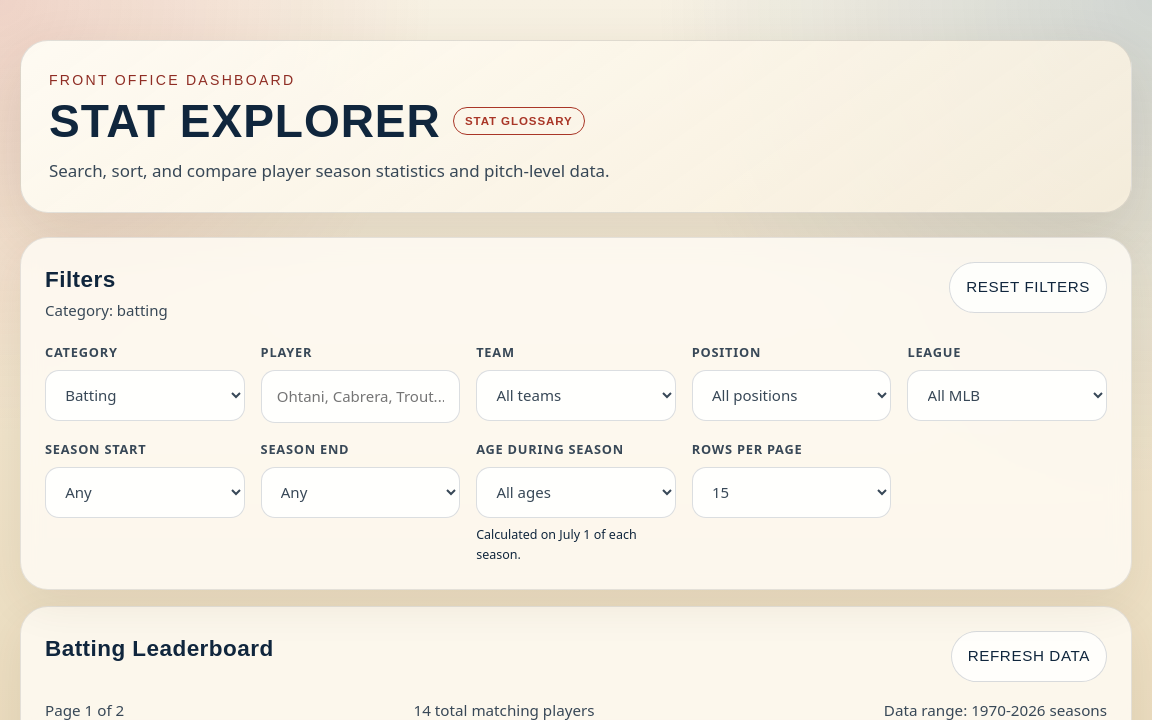
Test: StatExplorer › updates and resets the filter summary
Type "Ohtani" into the field with placeholder "Ohtani, Cabrera, Trout...".
click(360, 396); type("Ohtani")  # box [261,370,460,423]
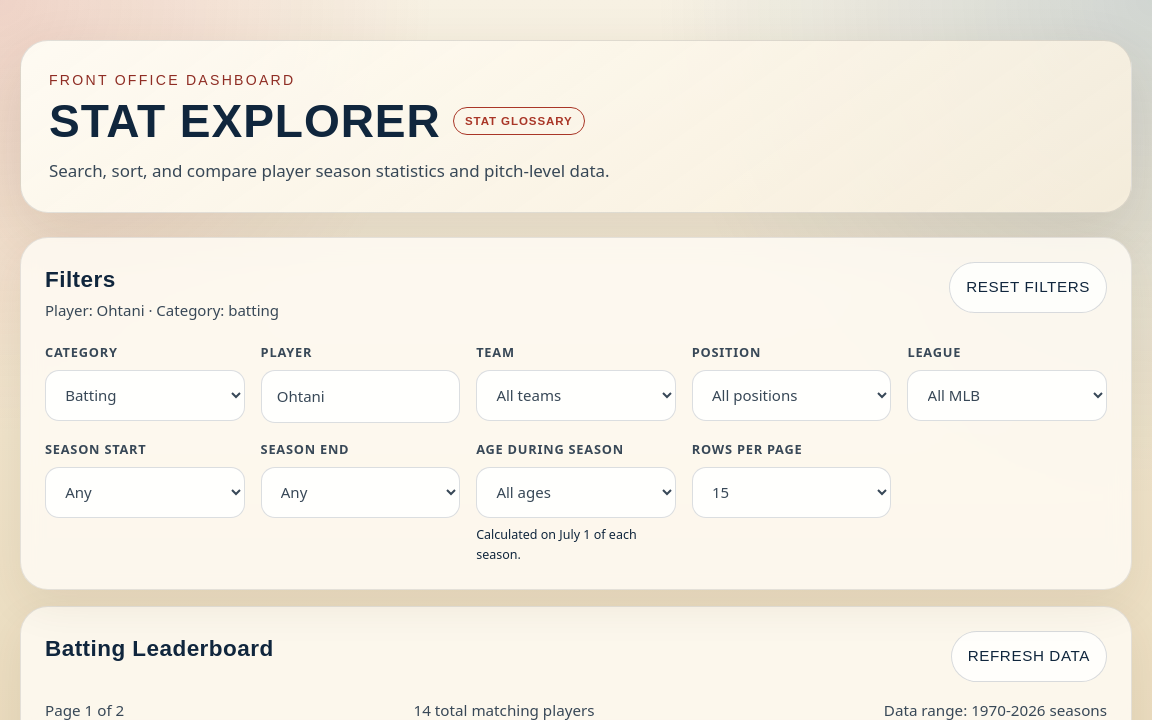
Select "LAD · Dodgers" in the dropdown with test id "team-filter" at coordinates (576, 395), box [476,370,676,421]
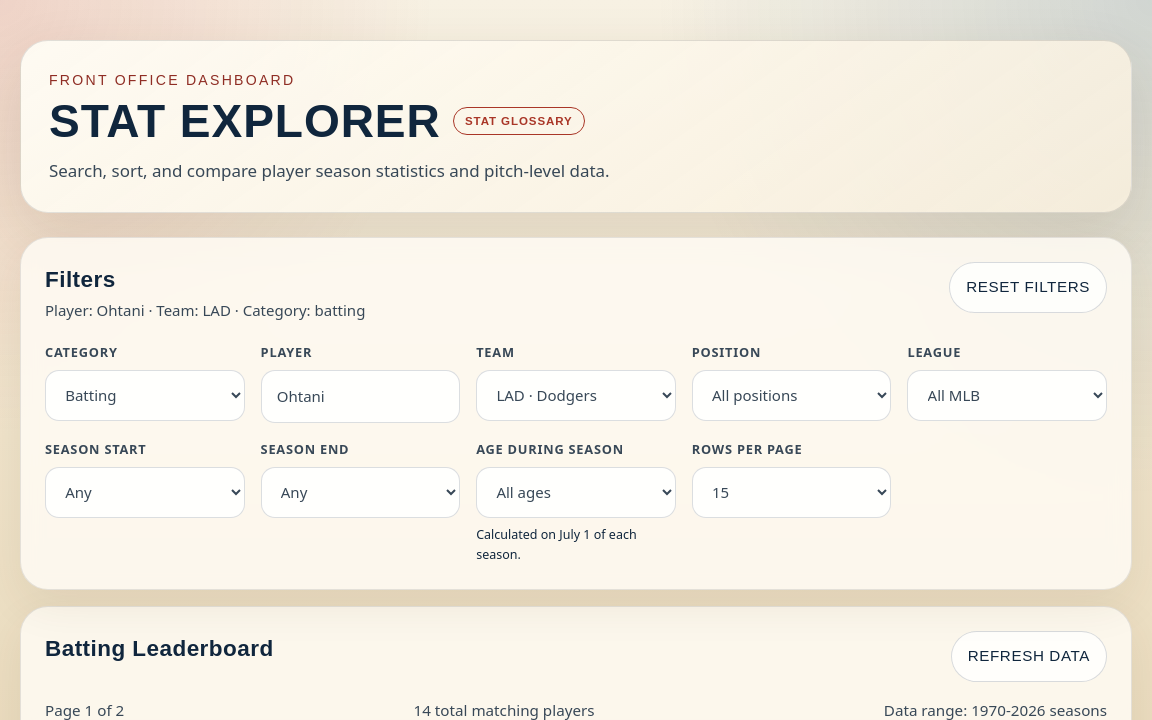
Select "2025" in the dropdown with test id "season-start-filter" at coordinates (145, 492), box [45,466,245,518]
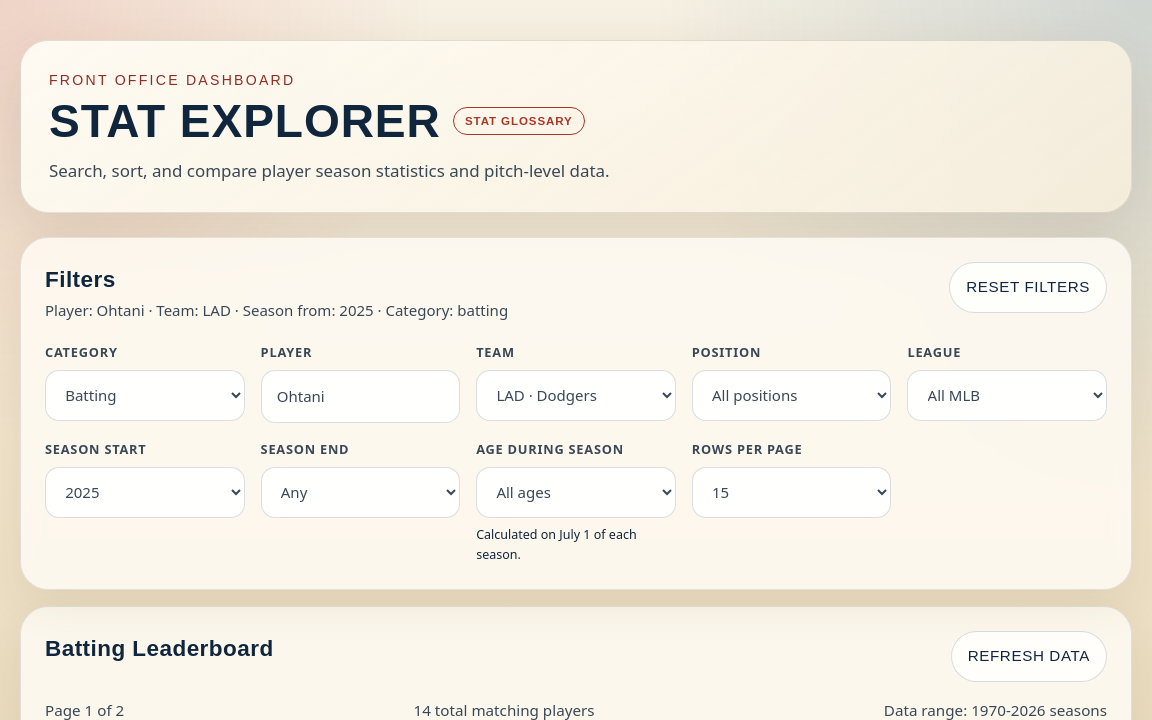
Select "2026" in the dropdown with test id "season-end-filter" at coordinates (360, 492), box [261,466,460,518]
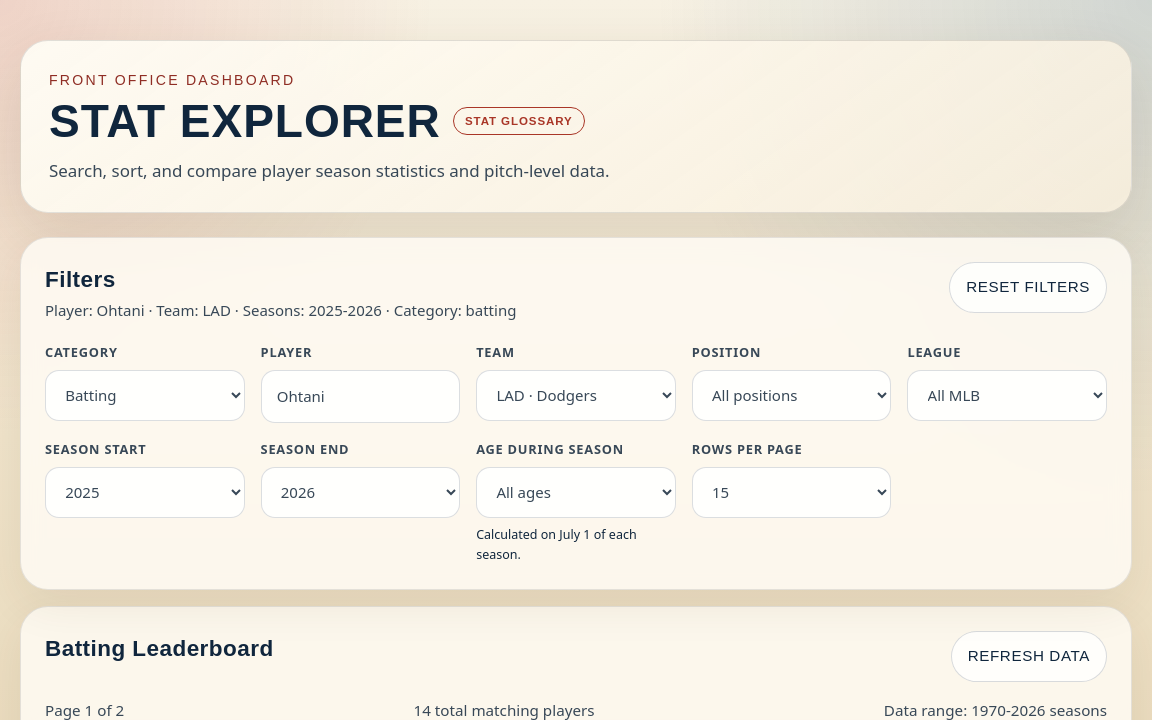
Expected: the text "Player: Ohtani · Team: LAD · Seasons: 2025-2026" is shown, [45,300,516,320]
Click the button with class "ghost-button" showing "Reset Filters".
click(1028, 288)  # box [949,262,1107,313]
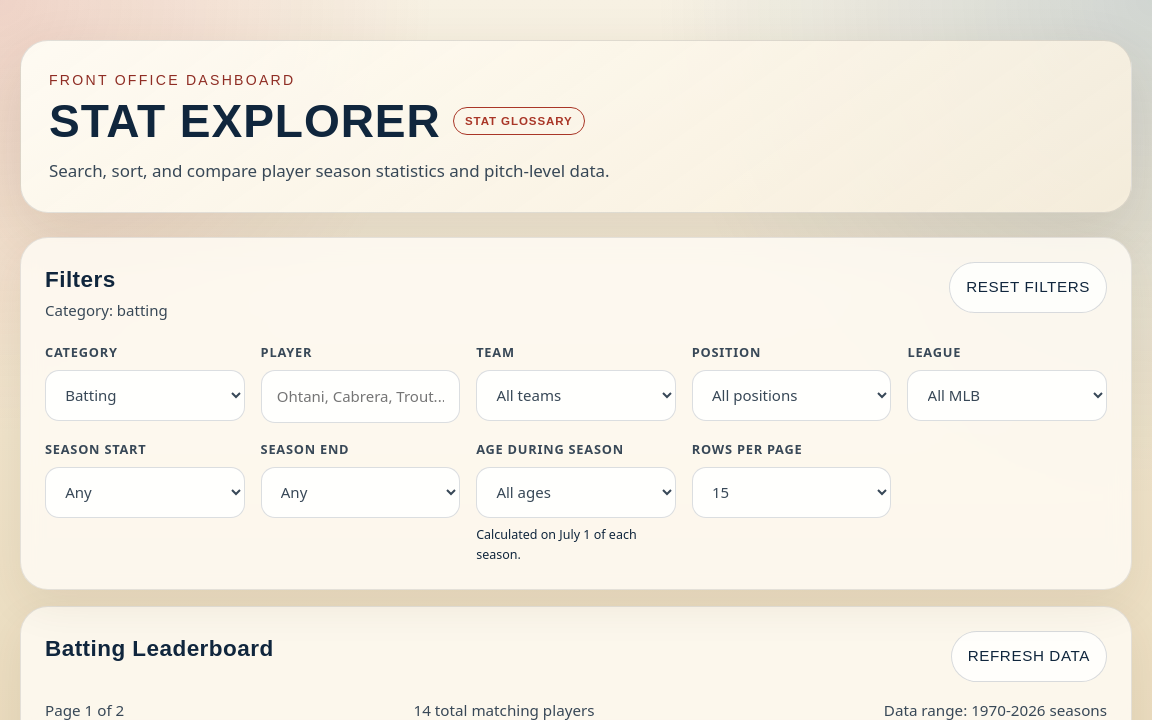
Expected: the text "Category: batting" is shown, [45,298,168,322]
Expected: the field with placeholder "Ohtani, Cabrera, Trout..." is empty, [261,370,460,423]
